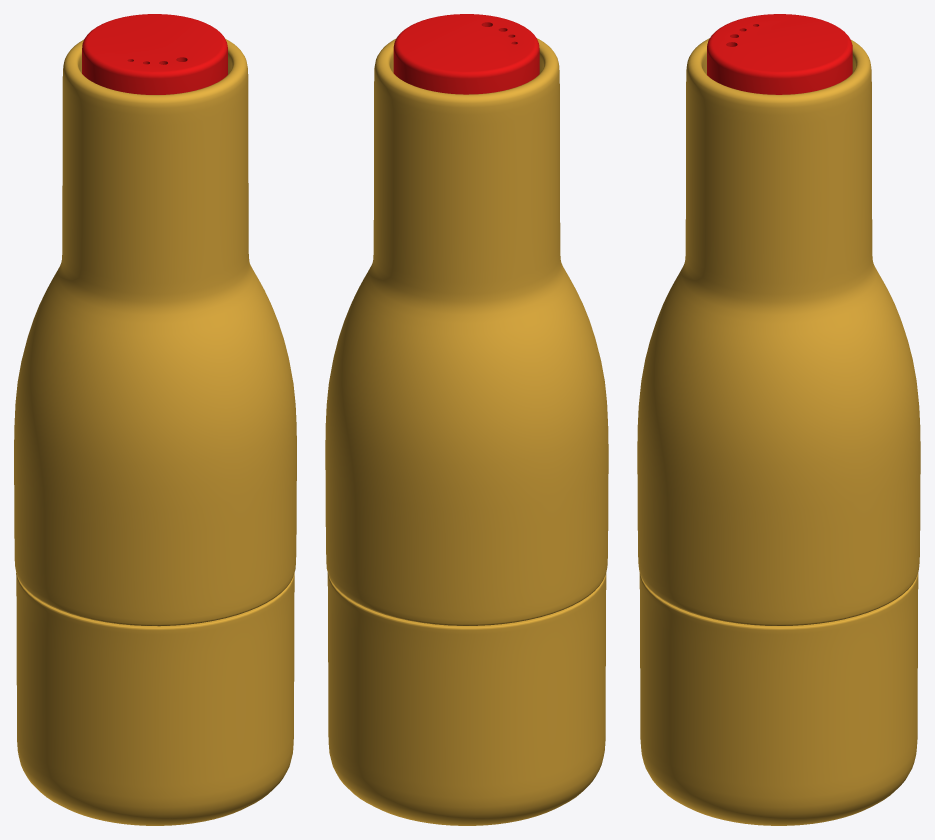
Rendered from GrinderMenu_id.FBX.
3 views of the same model, side by side, from view 1: azimuth 30°, elevation 25°; view 2: azimuth 150°, elevation 25°; view 3: azimuth 270°, elevation 25° (orthographic).
Visible parts, largest first — view 1: GrinderBottle_id, GrinderBung_id; view 2: GrinderBottle_id, GrinderBung_id; view 3: GrinderBottle_id, GrinderBung_id.
Part boxes in pixels (x1=…): GrinderBottle_id: x1=14, y1=39, x2=296, y2=825; GrinderBung_id: x1=82, y1=14, x2=227, y2=94; GrinderBottle_id: x1=325, y1=38, x2=608, y2=825; GrinderBung_id: x1=393, y1=14, x2=539, y2=94; GrinderBottle_id: x1=637, y1=38, x2=920, y2=825; GrinderBung_id: x1=707, y1=14, x2=852, y2=94.
Bounding box in the file's own units: 84.46 × 244 × 84.46.
